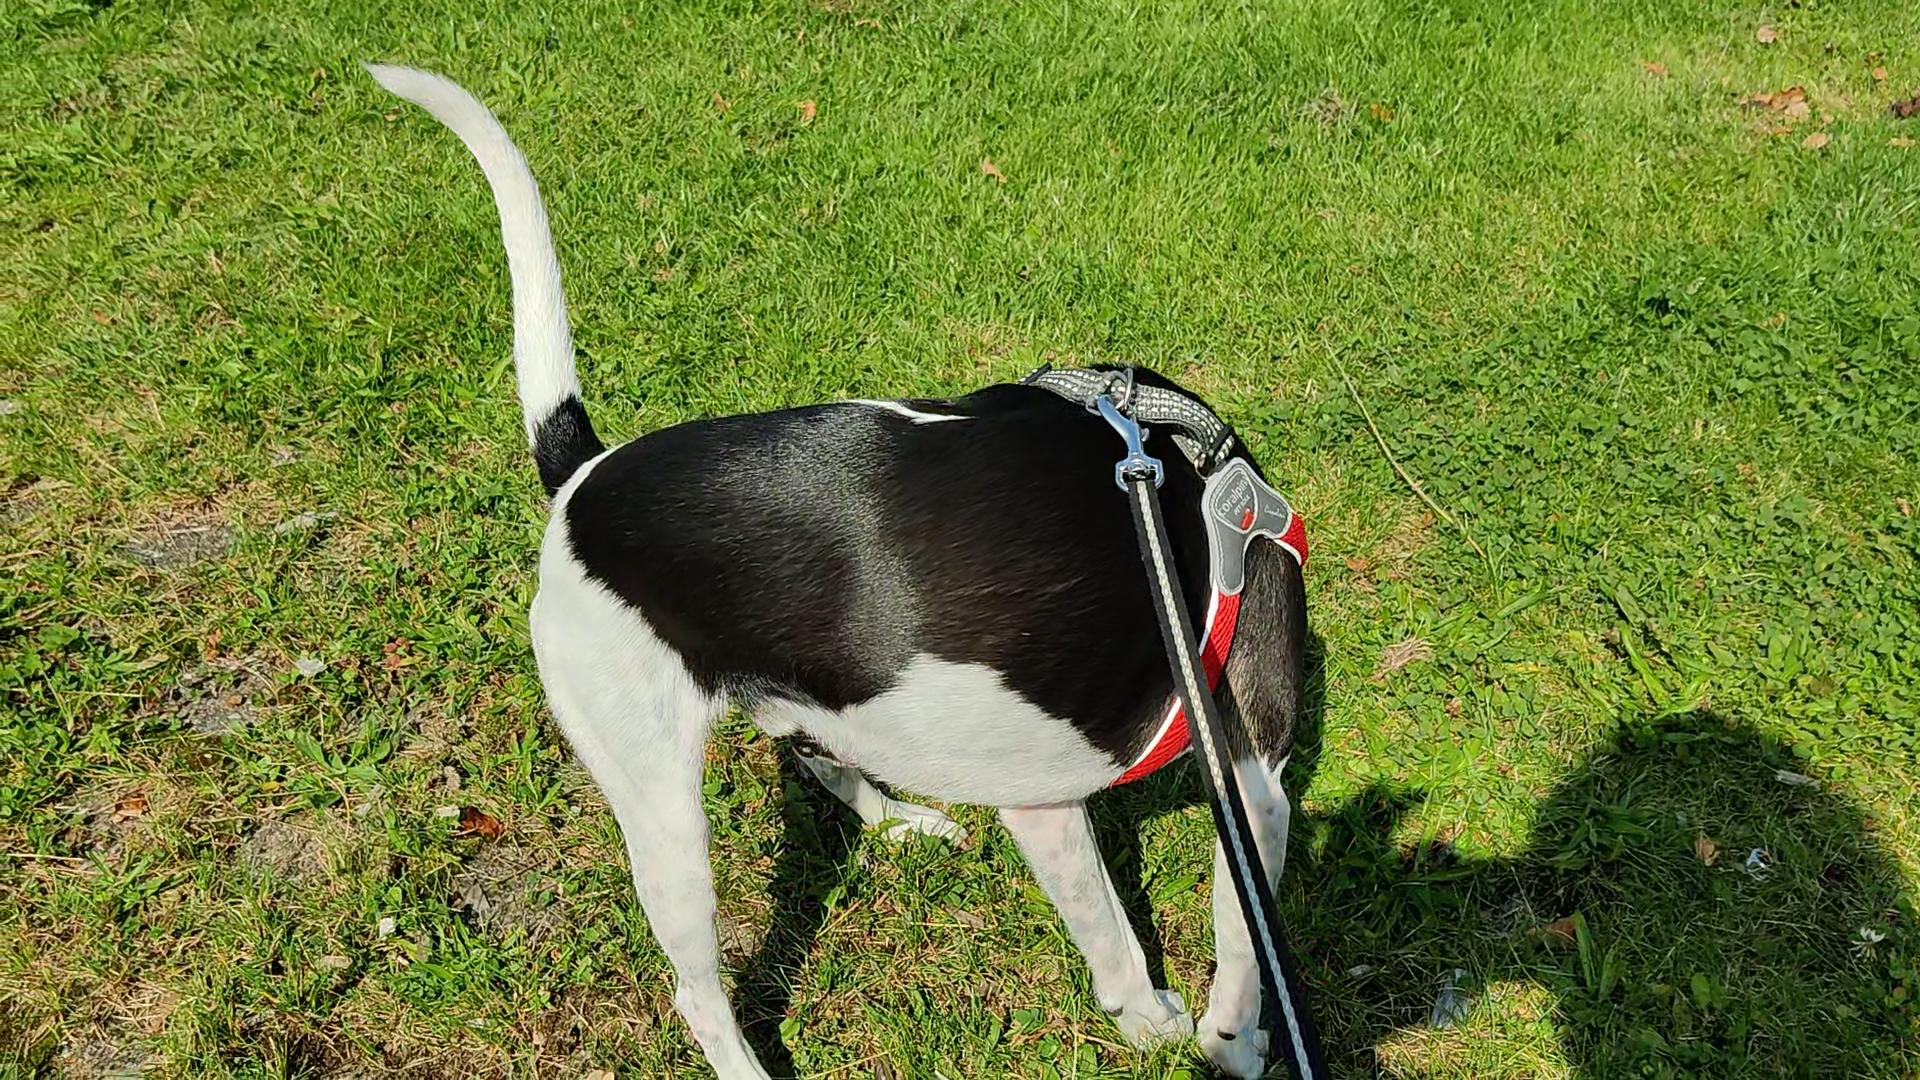Dog: (357, 55, 1315, 1079)
